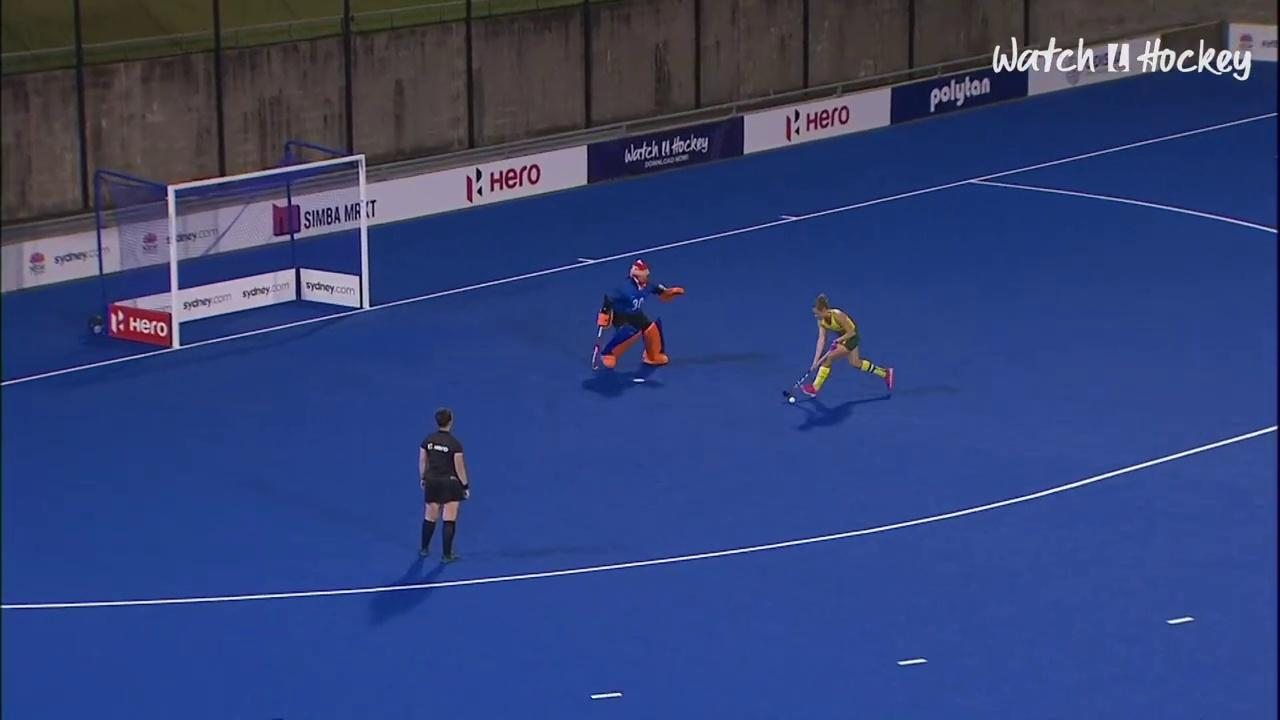ball: (784, 383, 801, 412)
